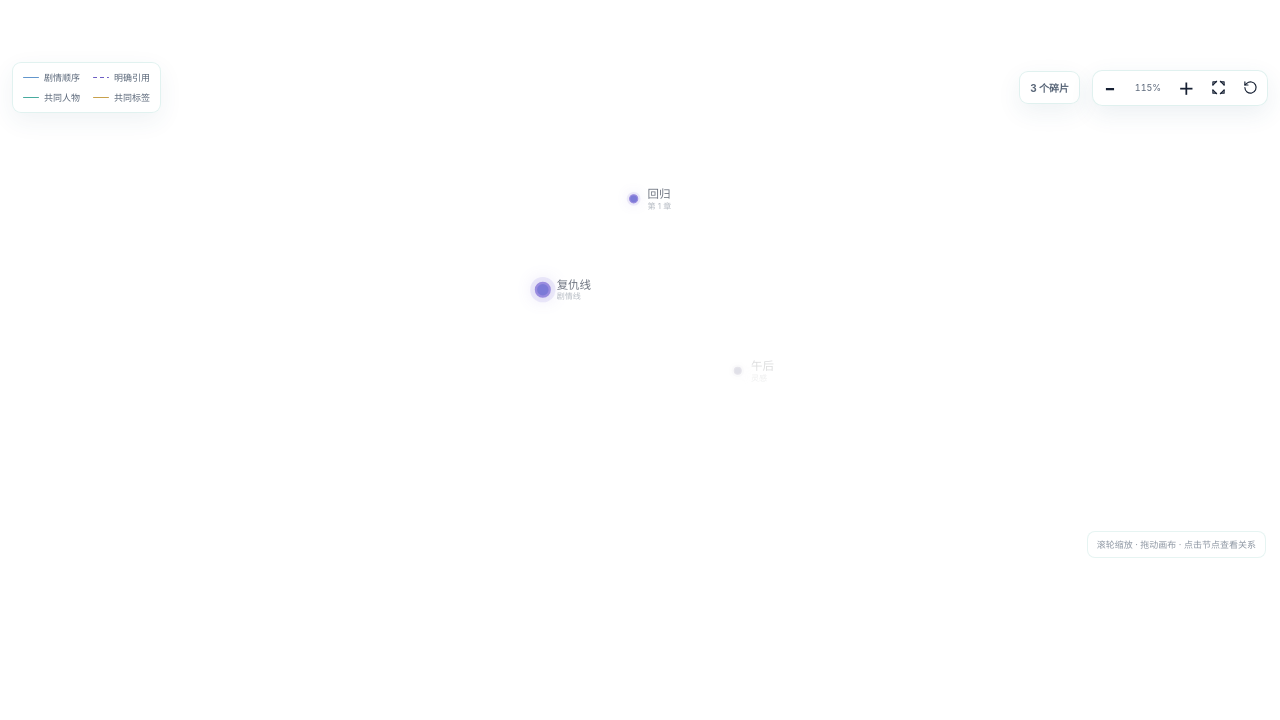
Test: FragmentBoard › opens full Markdown in the side reader and reveals all focus relationships
Click the button with aria-label "阅读复仇线".
click(543, 289)  # box [518, 264, 568, 314]
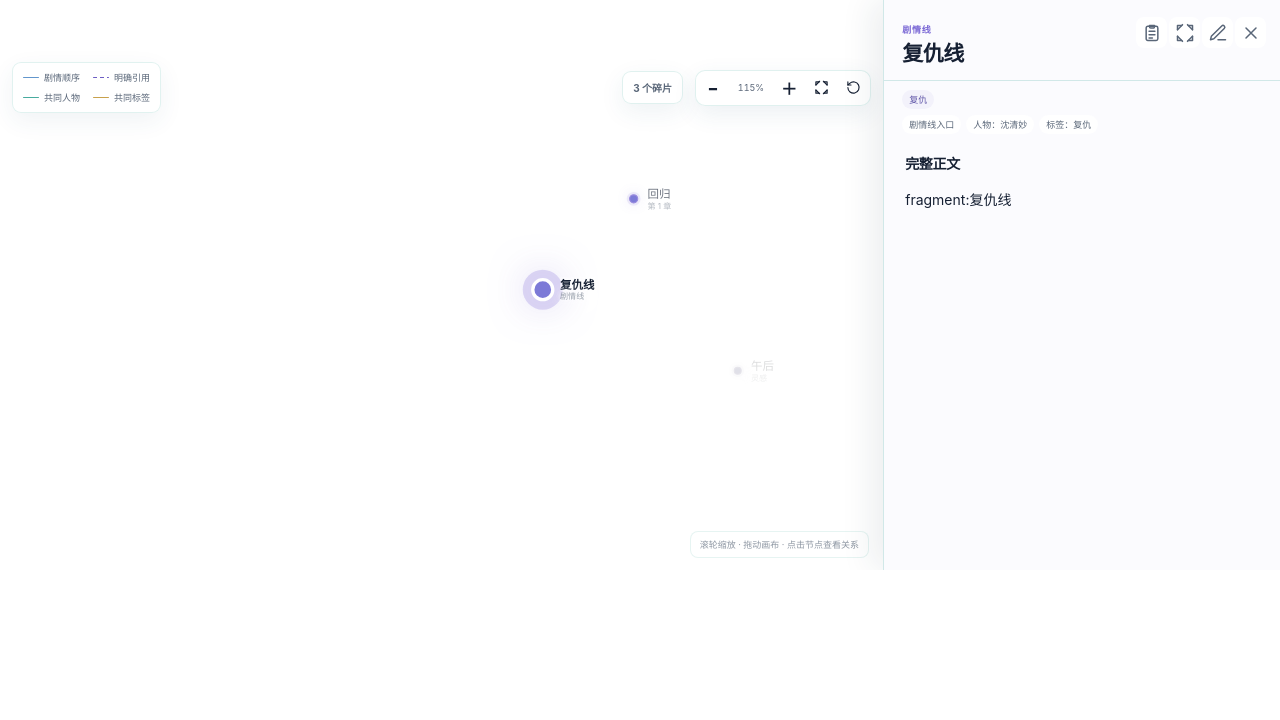
Expected: the element named "阅读复仇线" is shown, [883, 0, 1279, 570]
Expected: the heading "完整正文" is shown, [905, 155, 960, 172]
Expected: the text "人物：沈清妙" is shown, [966, 115, 1034, 134]
